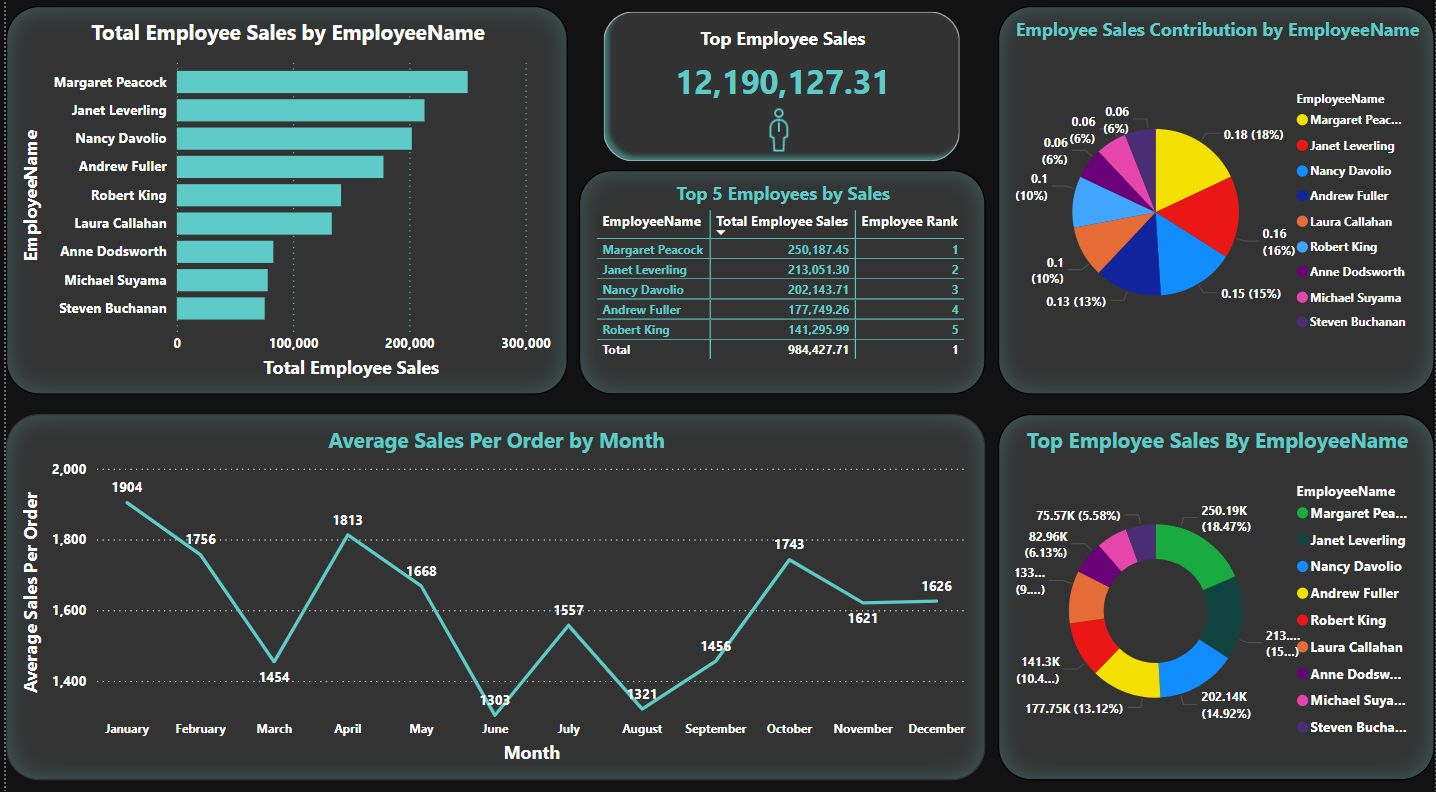

Layout of this report page (visuals, bound fields, positions):
{"tool":"powerbi","page":{"name":"Employee Performance","canvas":[1280,720],"ordinal":2},"visuals":[{"type":"cardVisual","fields":{"Data":["MeasureTable.Top Employee Sales"]},"box":[535.5,0,329.6,144.2],"z":0},{"type":"clusteredBarChart","fields":{"Category":["EmployeeSales.EmployeeName"],"Y":["MeasureTable.Total Employee Sales"]},"box":[0,0,503.3,345.7],"z":1000},{"type":"lineChart","fields":{"Category":["Orders.OrderDate.Variation.Date Hierarchy.Month","Orders.OrderDate.Variation.Date Hierarchy.Day"],"Y":["MeasureTable.Average Sales Per Order"]},"box":[0,377,876.7,327.8],"z":2000},{"type":"tableEx","title":"Top 5 Employees by Sales","fields":{"Values":["EmployeeSales.EmployeeName","MeasureTable.Total Employee Sales","MeasureTable.Employee Rank"]},"box":[513.1,144.2,363.6,201.5],"z":3000},{"type":"donutChart","title":"Top Employee Sales By EmployeeName","fields":{"Category":["EmployeeSales.EmployeeName"],"Y":["MeasureTable.Total Employee Sales"]},"box":[888.4,377,391.3,327.8],"z":4000},{"type":"pieChart","fields":{"Category":["EmployeeSales.EmployeeName"],"Y":["MeasureTable.Employee Sales Contribution"]},"box":[888.4,0,391.3,345.7],"z":5000}]}

Visuals, with their boxes in screenshot pixels (x1, y1, x2, y2), scaled from the page's 1280x720 canvas onto the 1436x792 screenshot:
cardVisual - MeasureTable.Top Employee Sales: locate(601, 0, 971, 159)
clusteredBarChart - EmployeeSales.EmployeeName x MeasureTable.Total Employee Sales: locate(0, 0, 565, 380)
lineChart - Orders.OrderDate.Variation.Date Hierarchy.Month x Orders.OrderDate.Variation.Date Hierarchy.Day: locate(0, 415, 984, 775)
"Top 5 Employees by Sales" tableEx: locate(576, 159, 984, 380)
"Top Employee Sales By EmployeeName" donutChart: locate(997, 415, 1435, 775)
pieChart - EmployeeSales.EmployeeName x MeasureTable.Employee Sales Contribution: locate(997, 0, 1435, 380)
